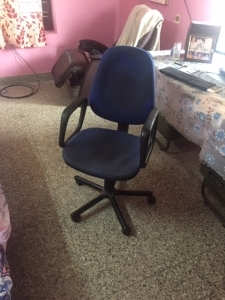chair: (57, 46, 158, 235)
